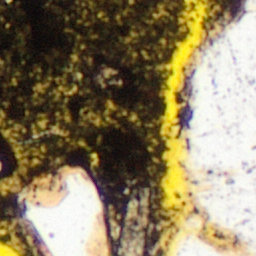cement_matrix: (0, 0, 185, 255), (206, 0, 242, 26), (128, 200, 145, 226), (178, 93, 188, 124)
cracks: (156, 0, 247, 255), (199, 223, 240, 249), (177, 92, 189, 125), (0, 239, 22, 255), (0, 225, 9, 232)
gravel_crushed_stones: (170, 0, 255, 255), (27, 172, 102, 255), (198, 222, 241, 250), (121, 230, 142, 255), (129, 201, 144, 225)
